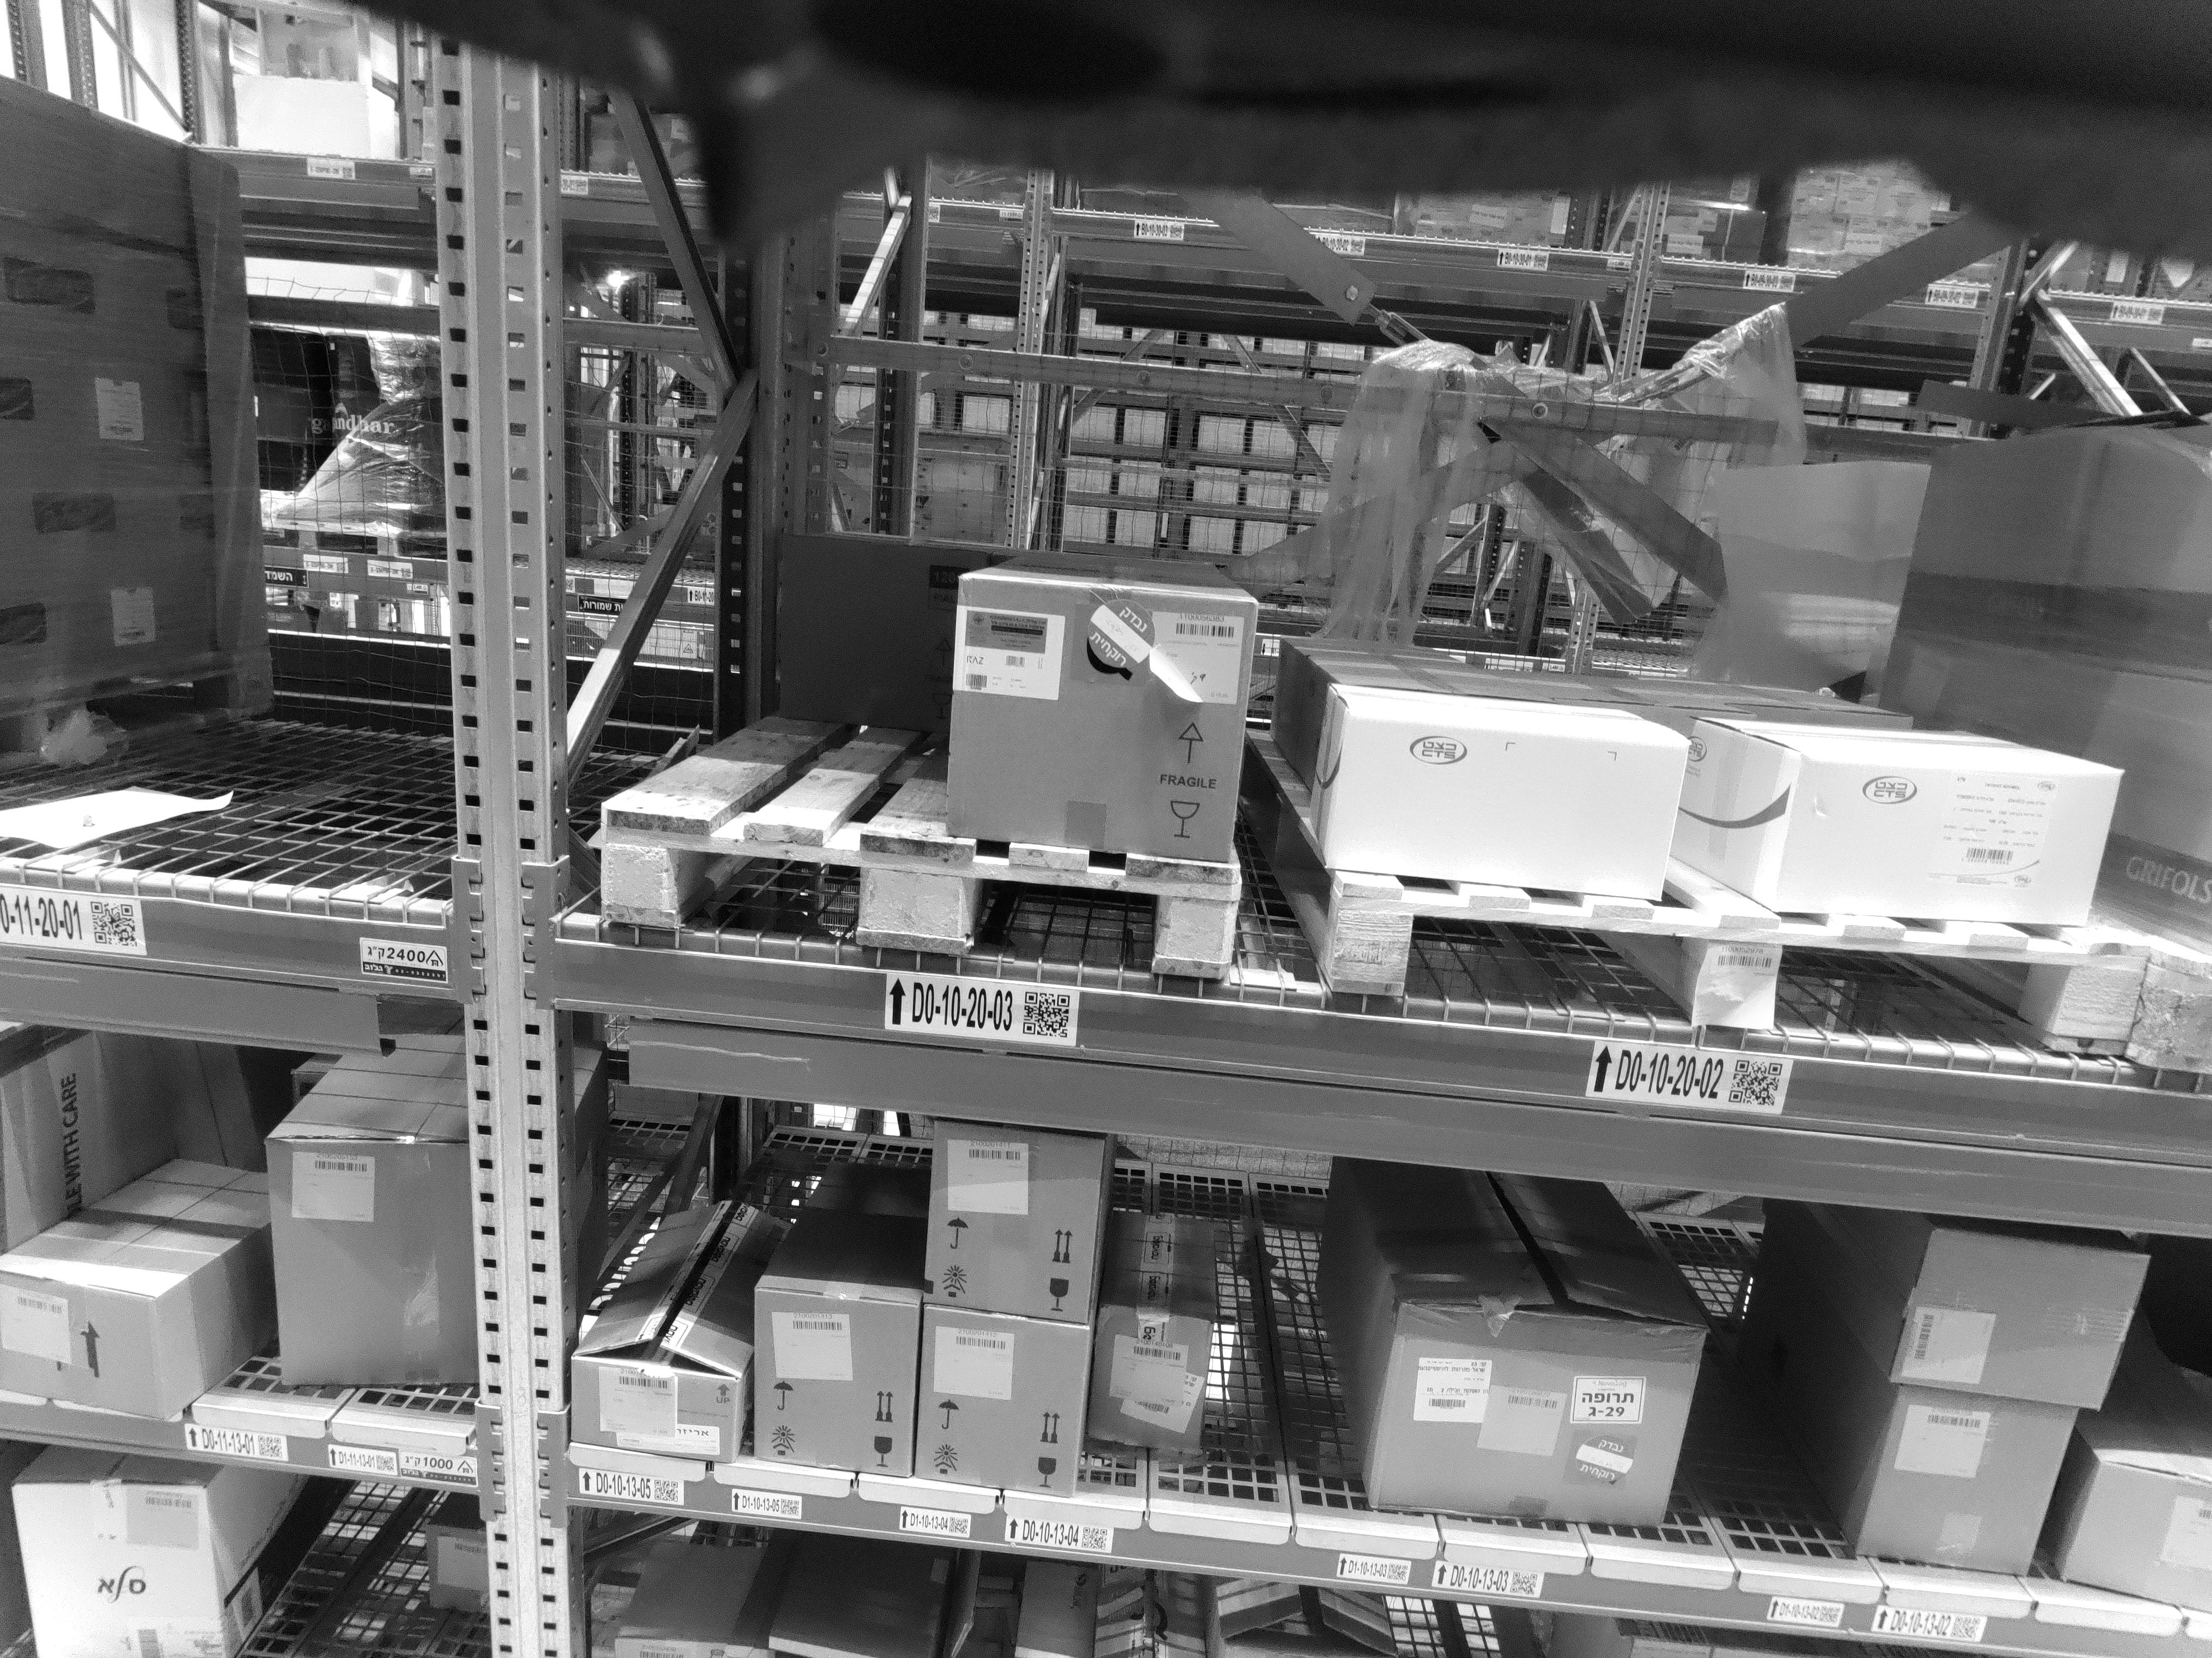empty-shelf: (160, 63, 420, 826)
